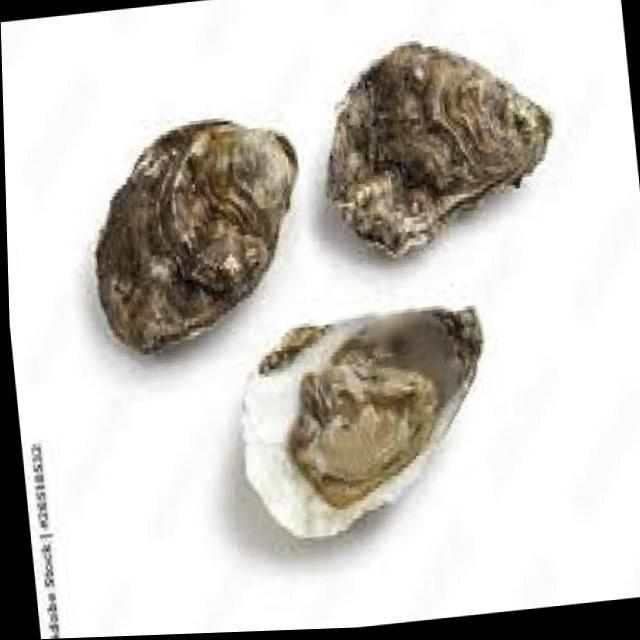Oyster-Indeterminate: (328, 41, 551, 254), (95, 119, 297, 352)
Oyster-Open: (241, 307, 481, 538)
